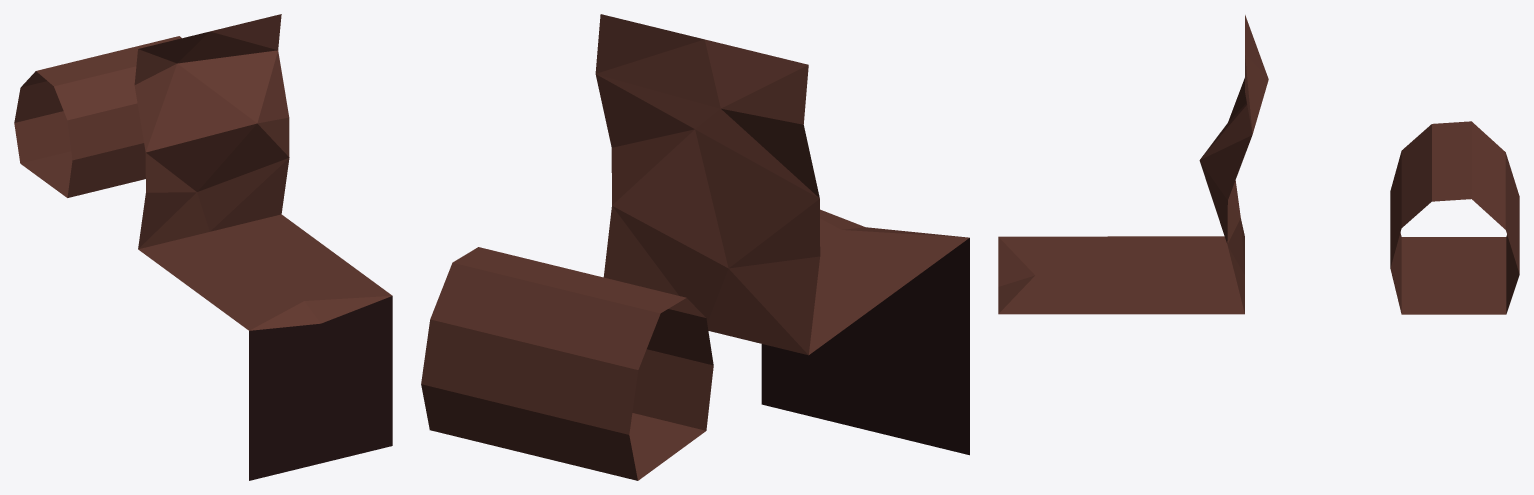
The model's file is Block_DOWN_MID.fbx.
The picture shows the model from 3 angles, left to right: view 1: azimuth 30°, elevation 25°; view 2: azimuth 150°, elevation 25°; view 3: azimuth 270°, elevation 25°; orthographic projection. The views are drawn at different scales.
Parts seen in each view (by area): view 1: Block_DOWN_MID; view 2: Block_DOWN_MID; view 3: Block_DOWN_MID.
Part boxes in pixels (<box>): Block_DOWN_MID: <box>14,14,392,480</box>; Block_DOWN_MID: <box>421,14,969,480</box>; Block_DOWN_MID: <box>998,15,1519,314</box>.
Size of the model in its own units: 6 by 14 by 17.
